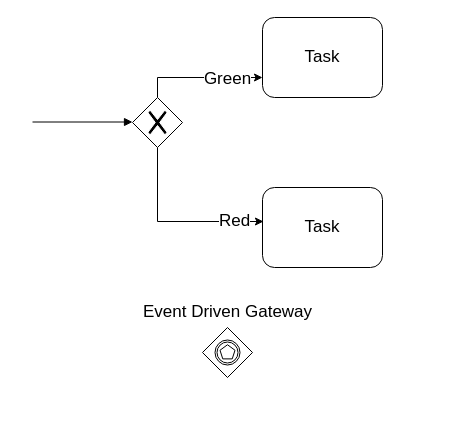
Some shapes in this 454 by 422 pixel diagram are drawn without their labels. Each missing label, with the box of its shape:
Depending on the outcome, Following by different event: (202, 326, 252, 378)
Which Color?: (132, 96, 182, 148)
